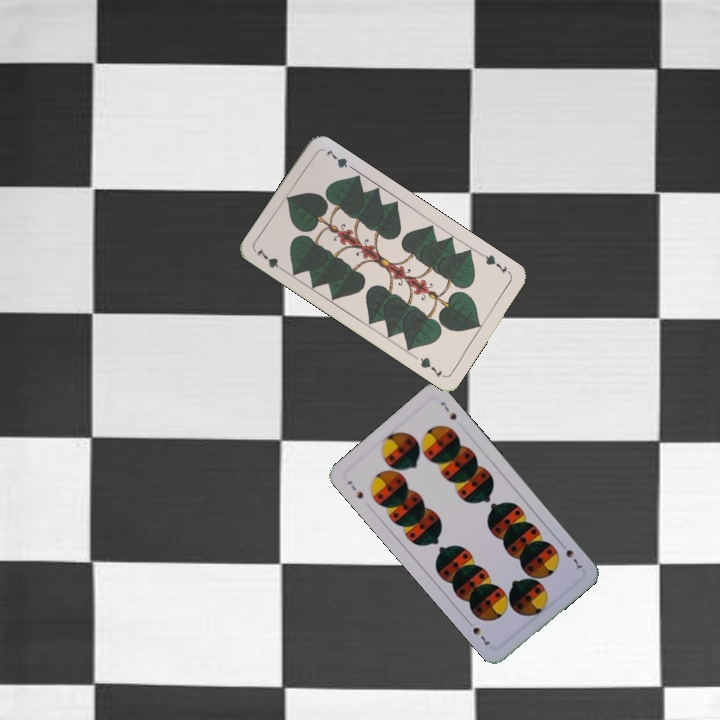G7: (253, 244, 289, 275), (477, 250, 509, 276)
S7: (556, 538, 584, 571), (343, 477, 366, 502)
